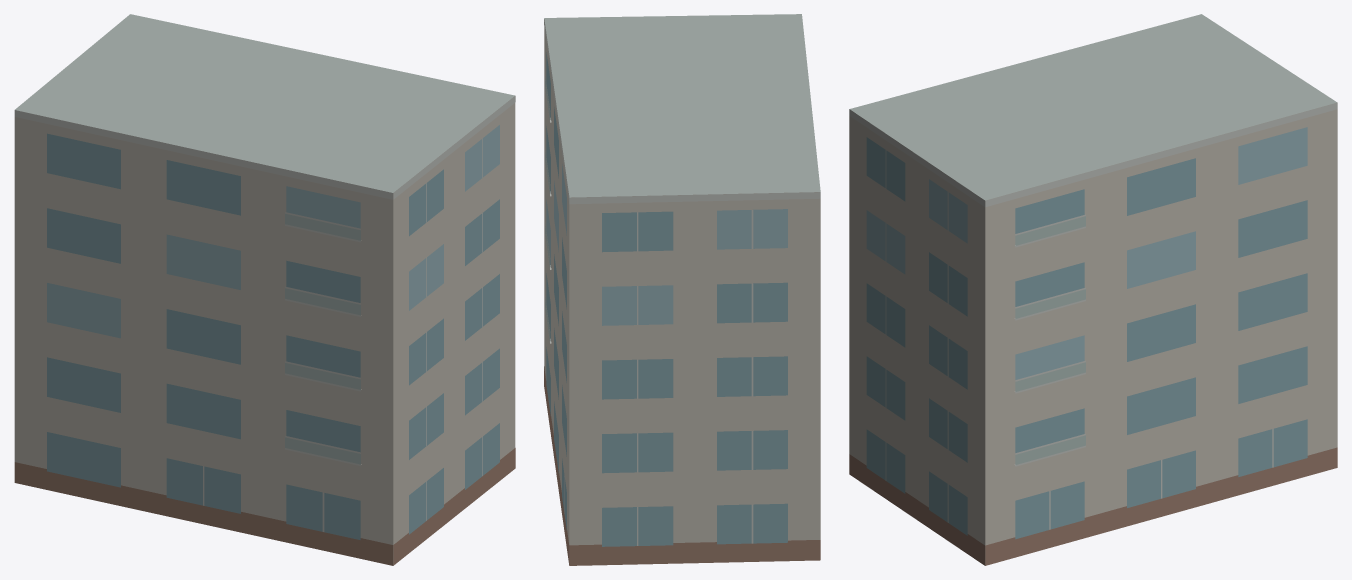
The model's file is survey-upis-32851150.glb.
The picture shows the model from 3 angles, left to right: view 1: azimuth 30°, elevation 25°; view 2: azimuth 150°, elevation 25°; view 3: azimuth 270°, elevation 25°; orthographic projection. The views are drawn at different scales.
Parts seen in each view (by area): view 1: survey-upis-32851150.tmp; view 2: survey-upis-32851150.tmp; view 3: survey-upis-32851150.tmp.
Boxes of the visible parts, left/top/right/bottom form: survey-upis-32851150.tmp: left=14, top=14, right=515, bottom=565; survey-upis-32851150.tmp: left=544, top=14, right=820, bottom=565; survey-upis-32851150.tmp: left=849, top=14, right=1337, bottom=565.
Size of the model in its own units: 14.47 by 13.2 by 16.
